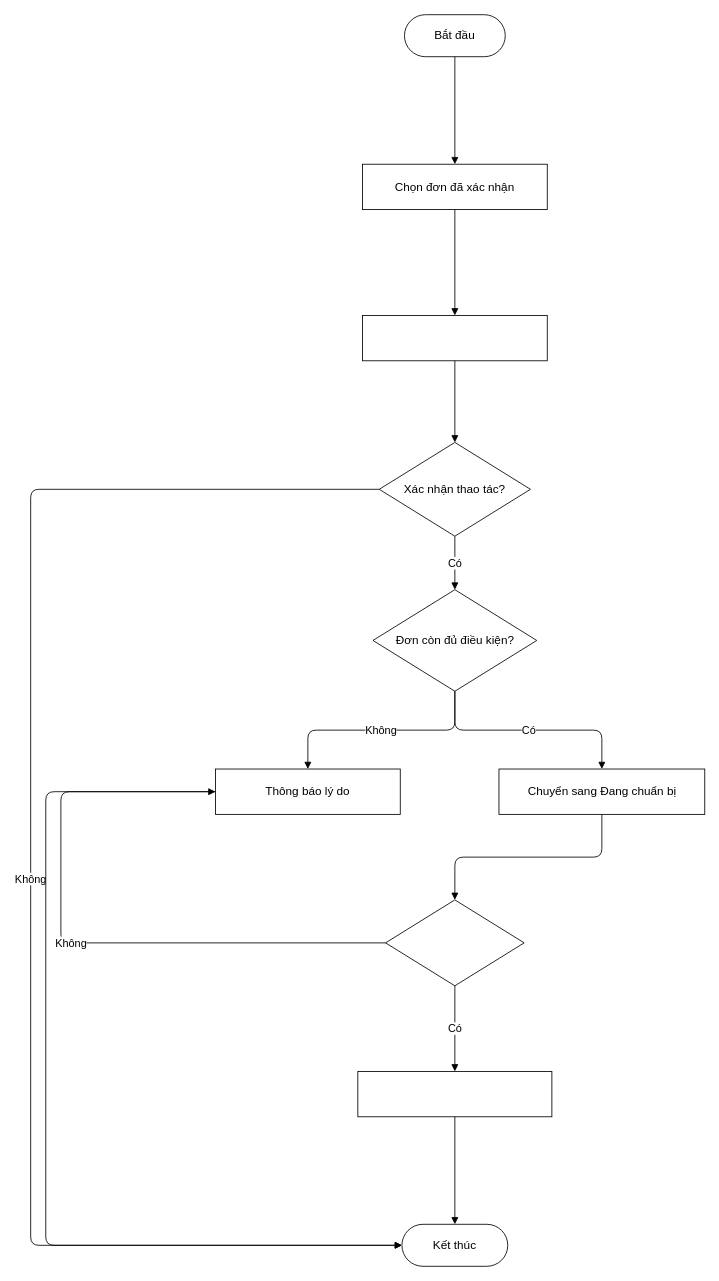
Some shapes in this 719 by 1281 pixel diagram are drawn without their labels. The shapes that lost their labels are listed below. From the top down, each one's box as (x1, y1, x2, y2) in pixels, then its label:
(362, 315, 547, 361): Chọn chuẩn bị hàng
(385, 899, 524, 986): Lưu thành công?
(357, 1071, 552, 1117): Hiển thị trạng thái mới
